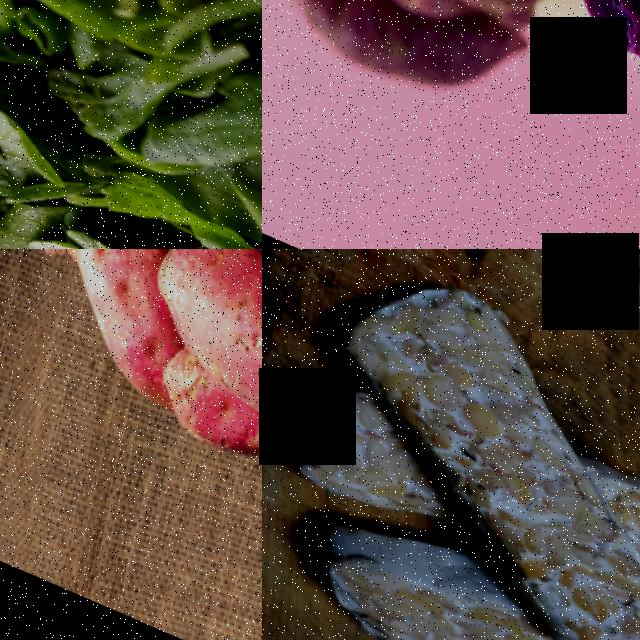sweet potato: (114, 249, 262, 504), (268, 0, 525, 128), (545, 0, 640, 72)
tempeh: (314, 252, 609, 513), (292, 507, 523, 640), (491, 457, 640, 640), (277, 398, 439, 527)
